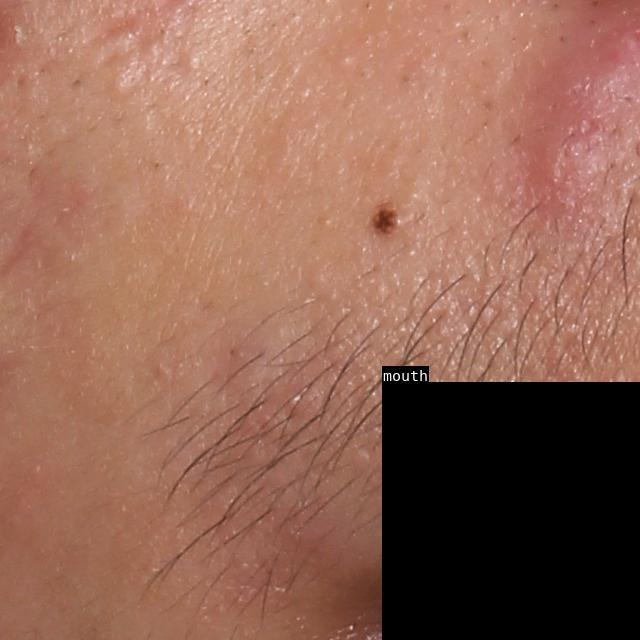comedo: (104, 76, 131, 100), (181, 54, 203, 76)
nevus: (366, 202, 410, 238)
